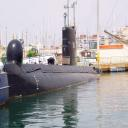submarine: (6, 1, 107, 103)
